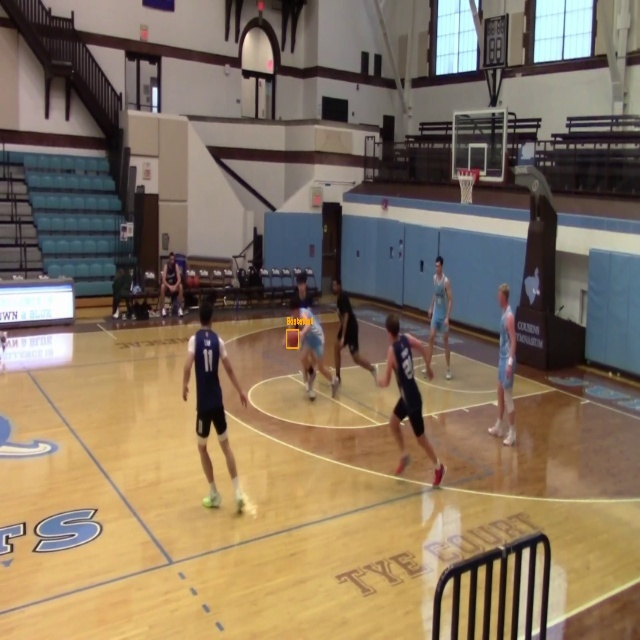Basketball: (287, 330, 299, 348)
